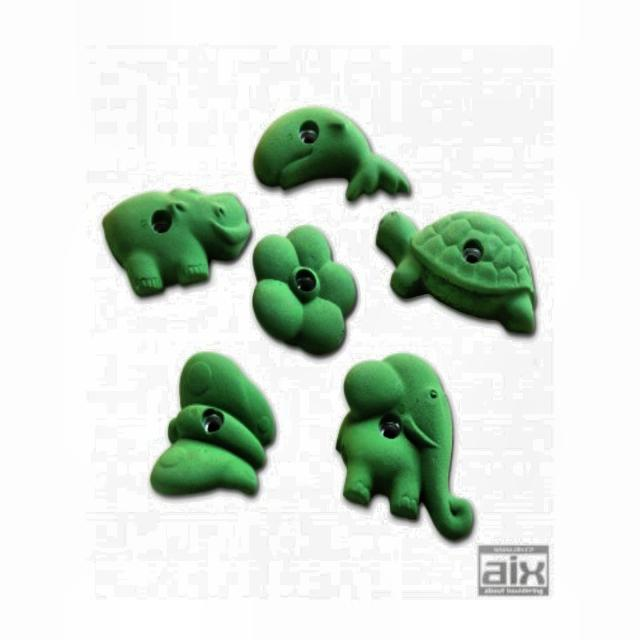Hold: (338, 352, 472, 540), (149, 342, 280, 514), (373, 211, 544, 335), (97, 180, 250, 297), (256, 106, 411, 203), (250, 222, 363, 350)
